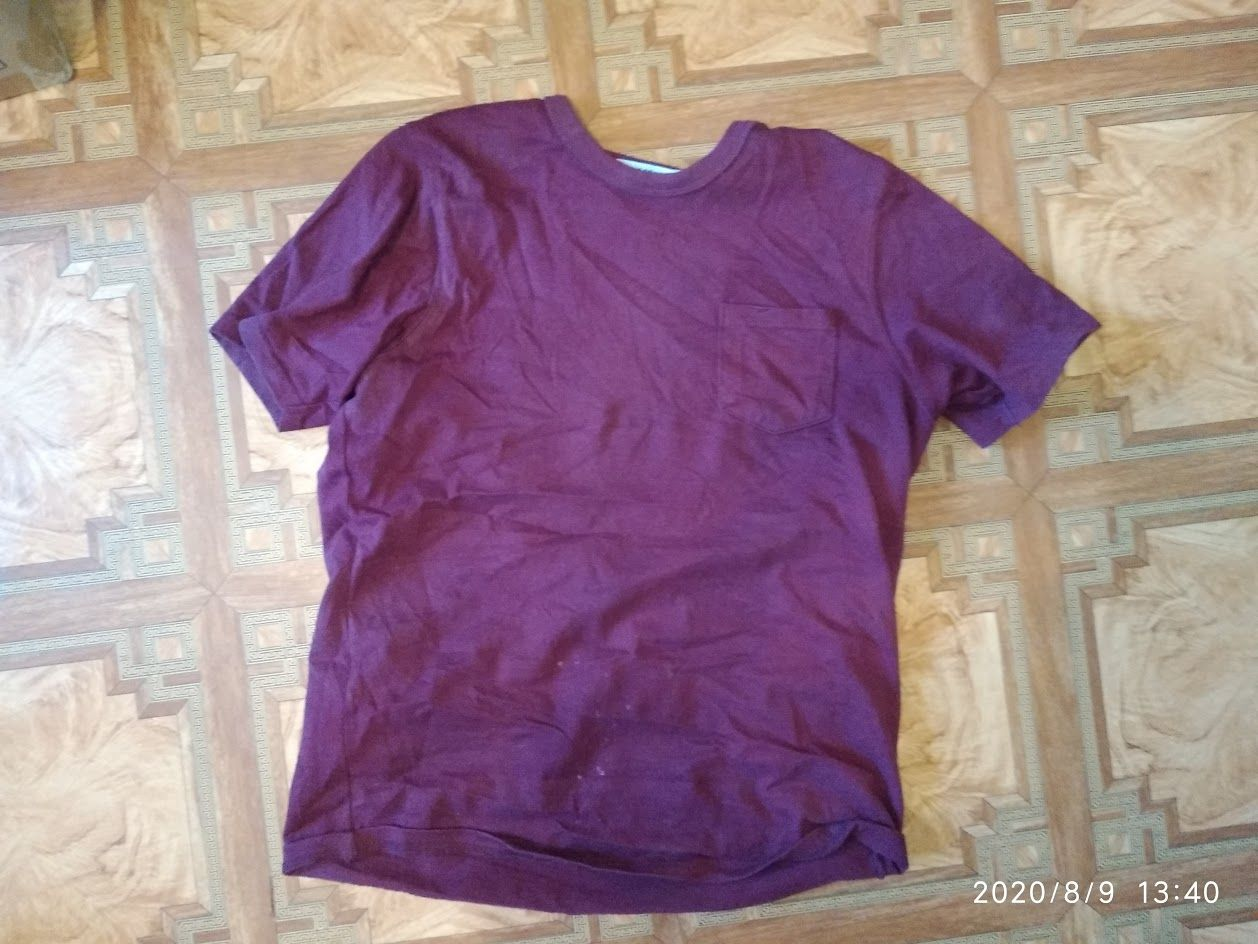clothes: (214, 94, 1104, 909)
